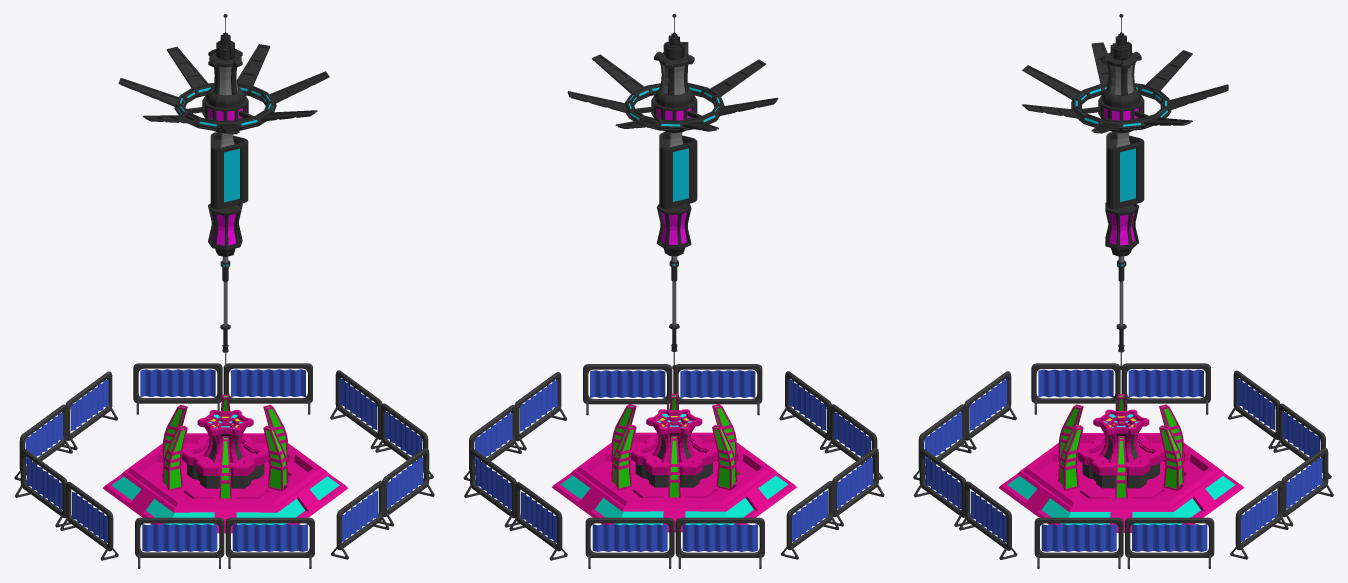
File: sonsintop.fbx
3 renders of one model, left to right at view 1: azimuth 30°, elevation 25°; view 2: azimuth 150°, elevation 25°; view 3: azimuth 270°, elevation 25°, orthographic.
Visible parts, largest first — view 1: Torus; view 2: Torus; view 3: Torus.
Part boxes in pixels (x1,y1,x2,y2): Torus: (14, 14, 434, 568); Torus: (463, 14, 884, 568); Torus: (913, 14, 1333, 568).
Size of the model in its own units: 1964 by 2662 by 2142.
